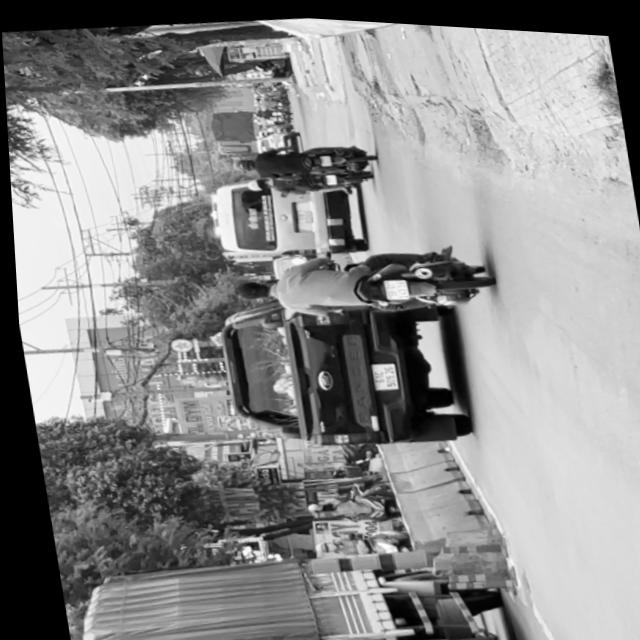helmet: (195, 439, 238, 464)
licenseplate: (222, 227, 493, 332)
motorcyclist: (228, 275, 271, 301)
nohelmet: (379, 273, 404, 296)
